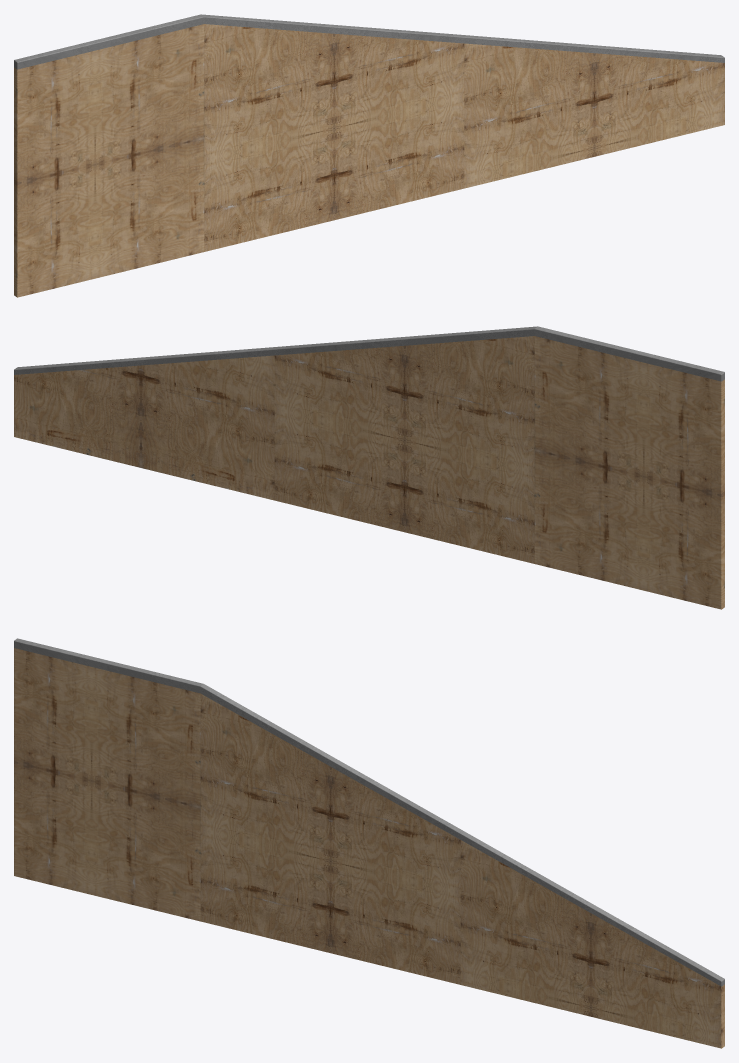
File: stairBox4.fbx
3 views of the same model, one above another, from view 1: azimuth 30°, elevation 25°; view 2: azimuth 150°, elevation 25°; view 3: azimuth 330°, elevation 25° (orthographic).
Parts seen in each view (by area): view 1: stairBox.004base, stairBox.004colider; view 2: stairBox.004base, stairBox.004colider; view 3: stairBox.004base, stairBox.004colider.
Boxes of the visible parts, box(x1,y1,x2,y2) form: stairBox.004base: box(14, 24, 724, 297); stairBox.004colider: box(14, 14, 724, 69); stairBox.004base: box(14, 336, 724, 609); stairBox.004colider: box(14, 326, 724, 381); stairBox.004base: box(14, 648, 724, 1048); stairBox.004colider: box(14, 638, 724, 986).
Bounding box in the file's own units: 1101 × 349 × 9.6.
